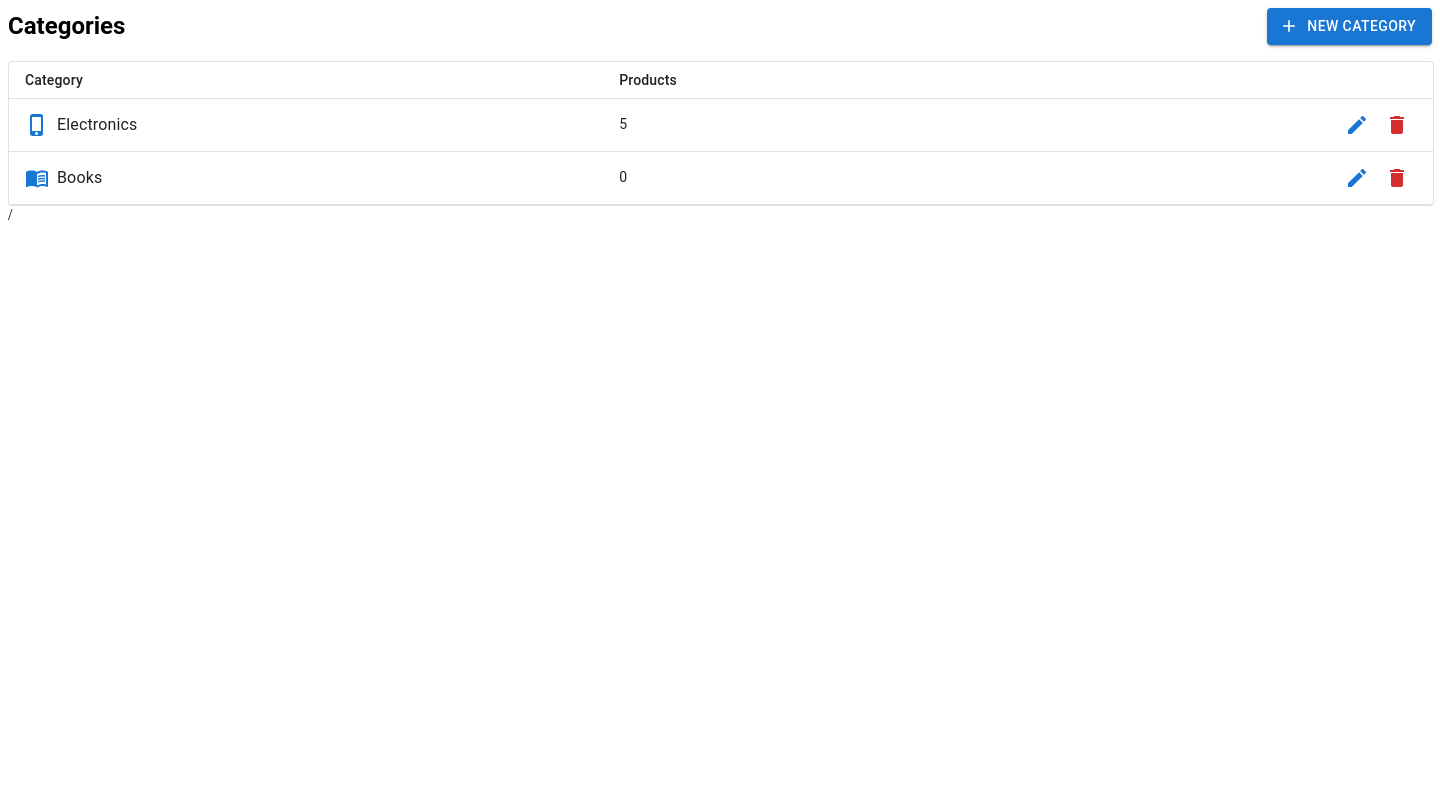
AdminCategories › shows the server's message when saving fails
Click the button "New category": (1350, 26) [1267, 8, 1432, 44]
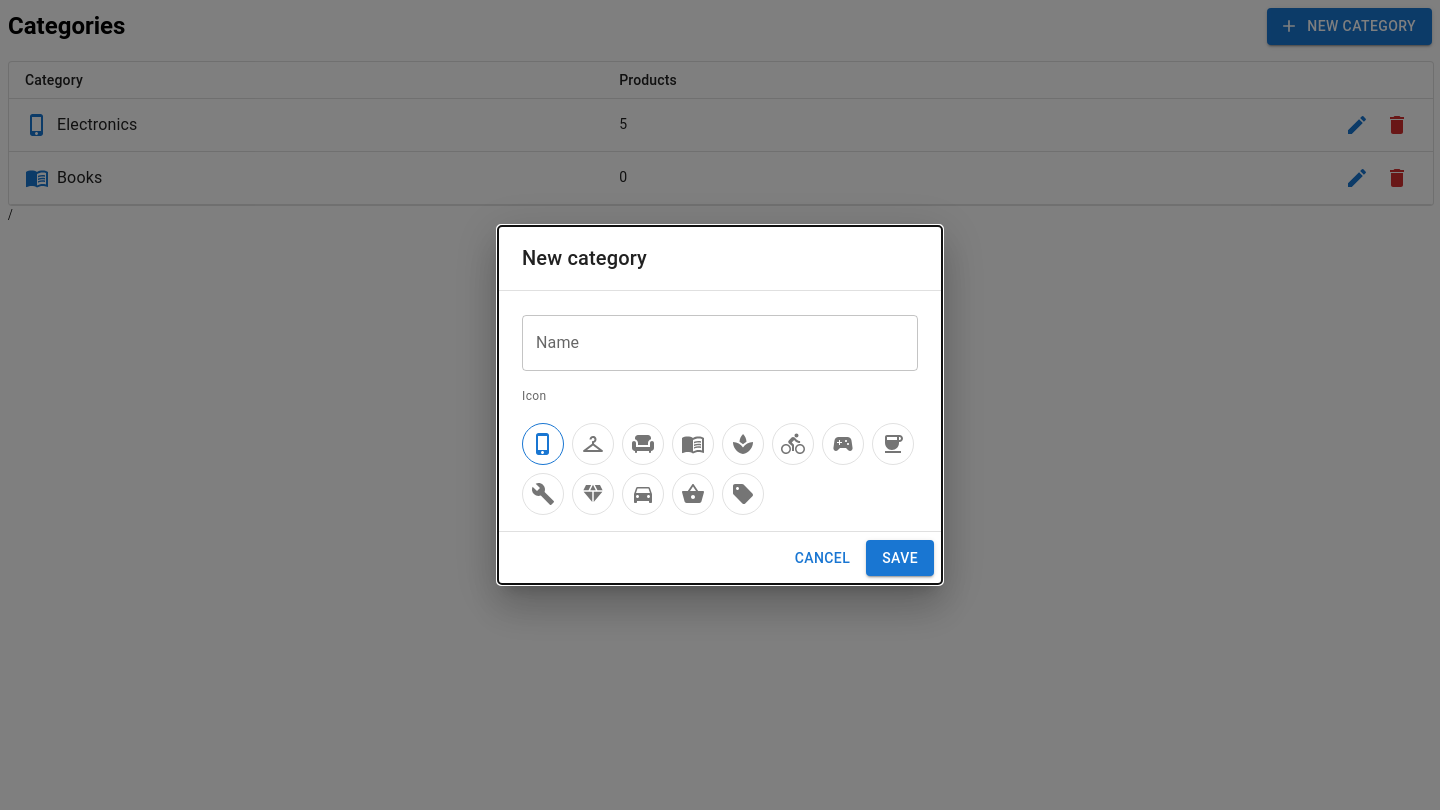
In the field labelled "Name": (720, 343) [522, 315, 918, 371], type "Books"
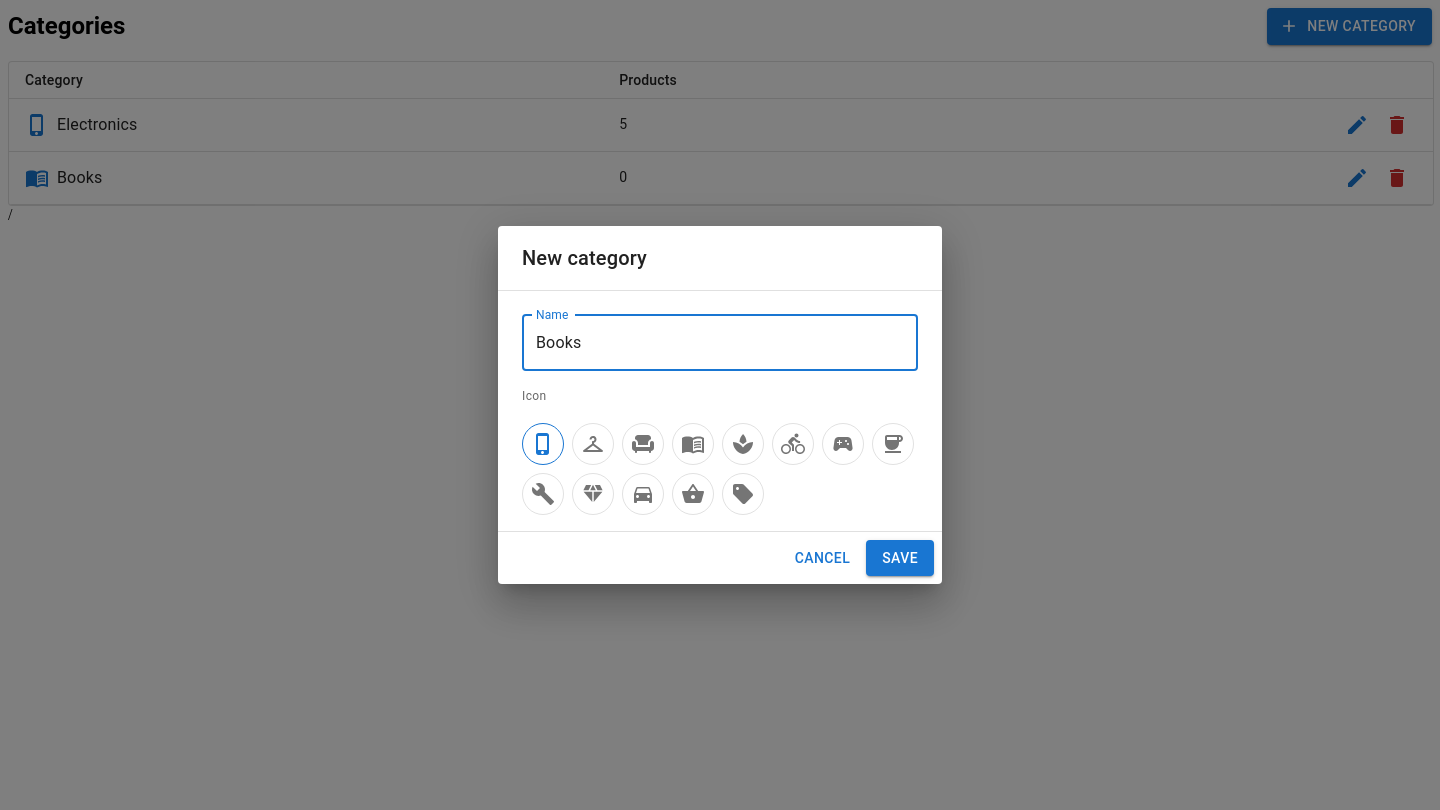
Click the button "Save": (900, 558) [866, 540, 934, 576]
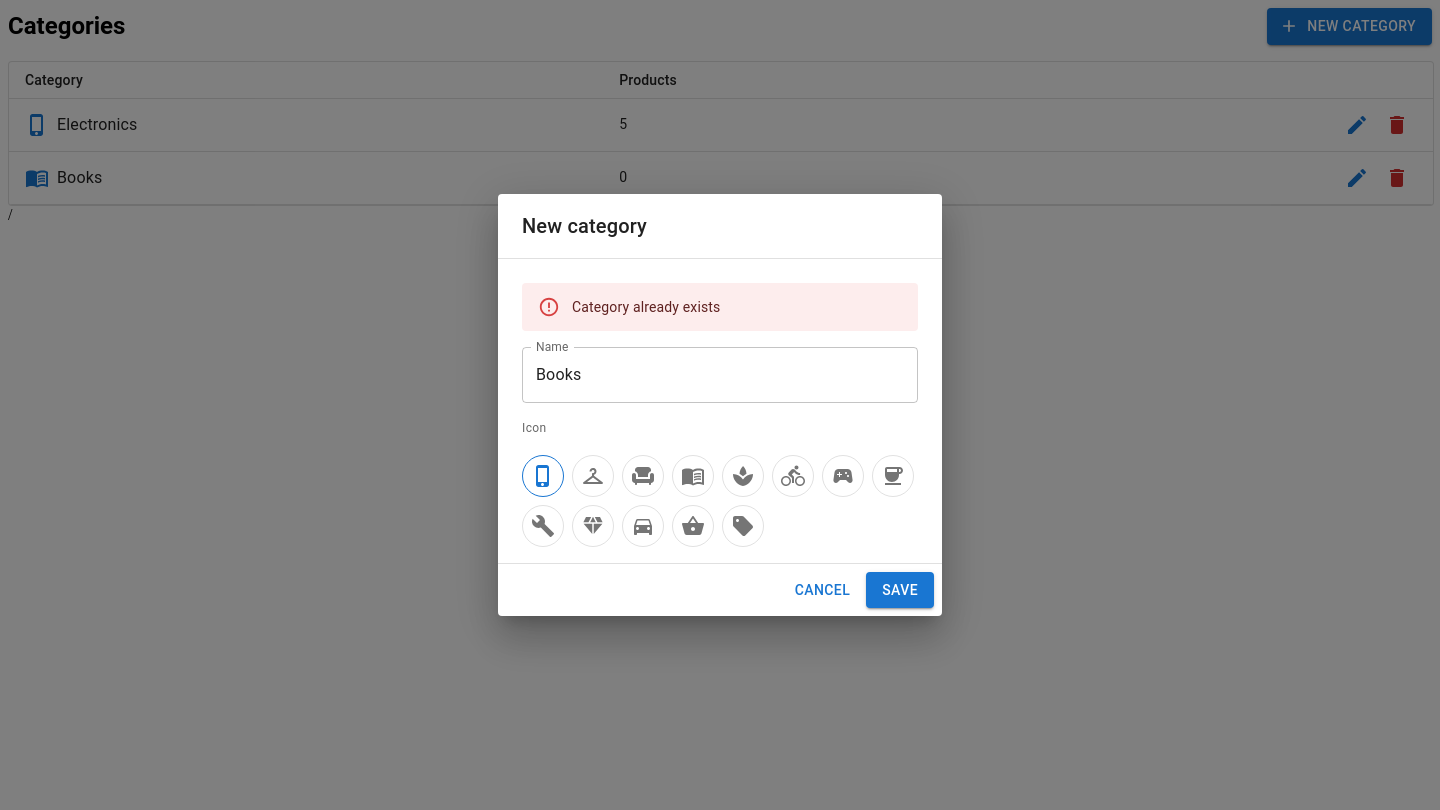
Check: the text "Category already exists" is shown, box [572, 299, 720, 315]
